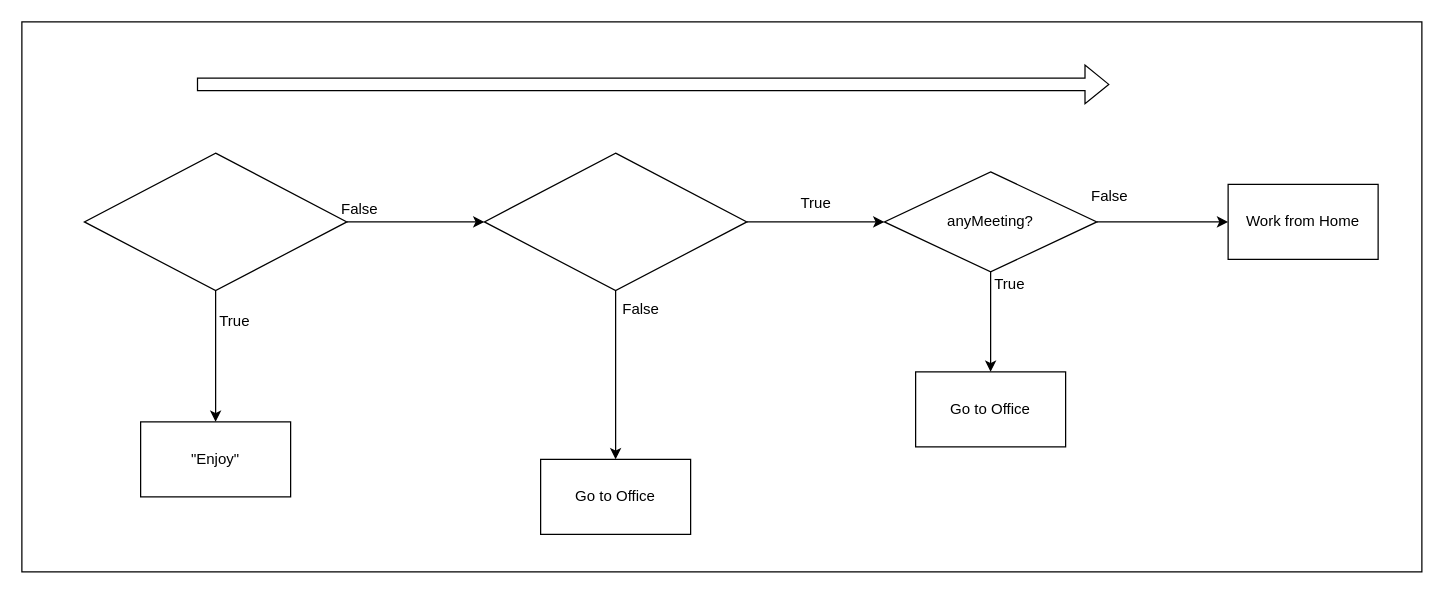
Some shapes in this 1444 by 594 pixel diagram are drawn without their labels. The shapes that lost their labels are listed below. From the top down, each one's centre as x and y in pixels, then its label:
(215,221): day = Sat OR Sun
(615,221): day = Mon OR Thu
